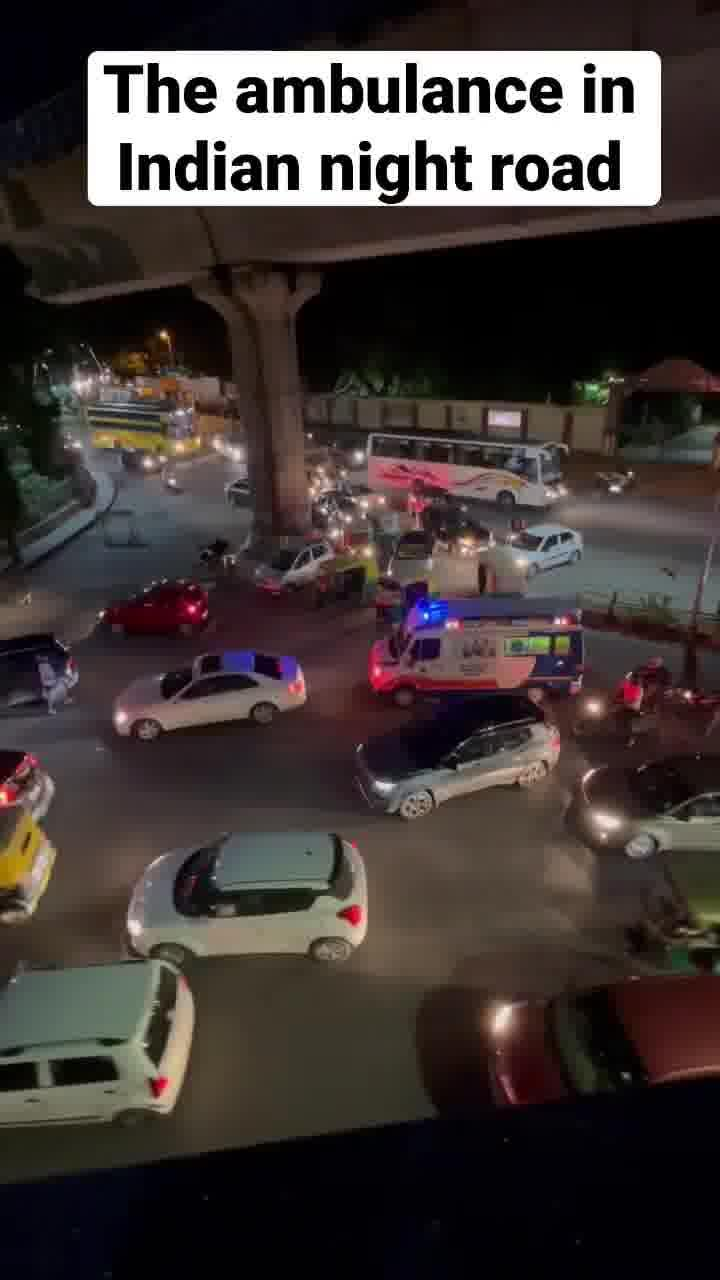AMBULANCE: (353, 592, 595, 700)
